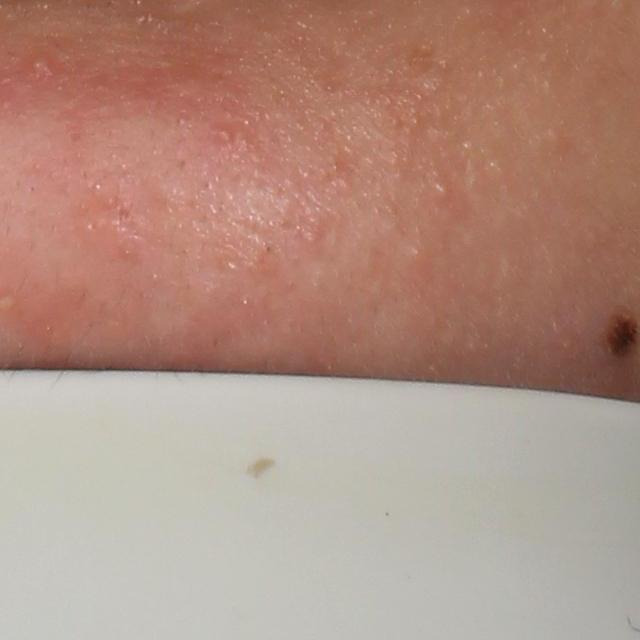comedo: (433, 183, 452, 203)
pustule: (28, 53, 57, 84)
